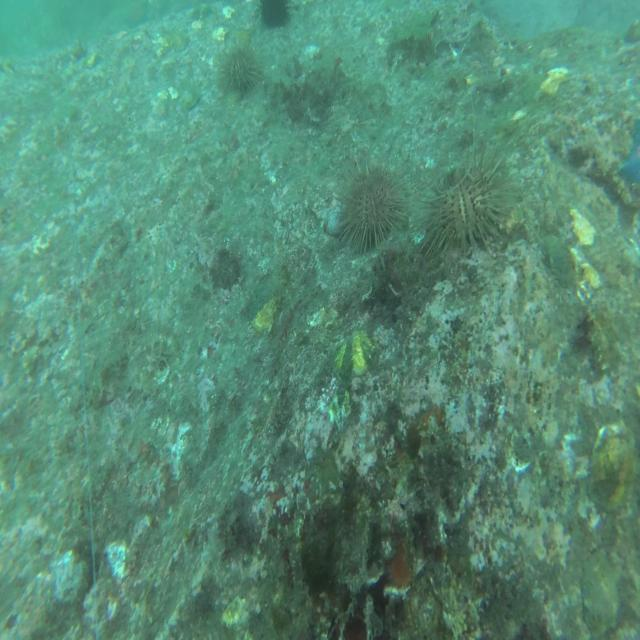echinus: (426, 162, 505, 258), (336, 167, 409, 246), (222, 37, 262, 95), (259, 4, 294, 28)
scallop: (590, 416, 632, 516), (329, 328, 376, 378)
starfish: (616, 124, 640, 209)
